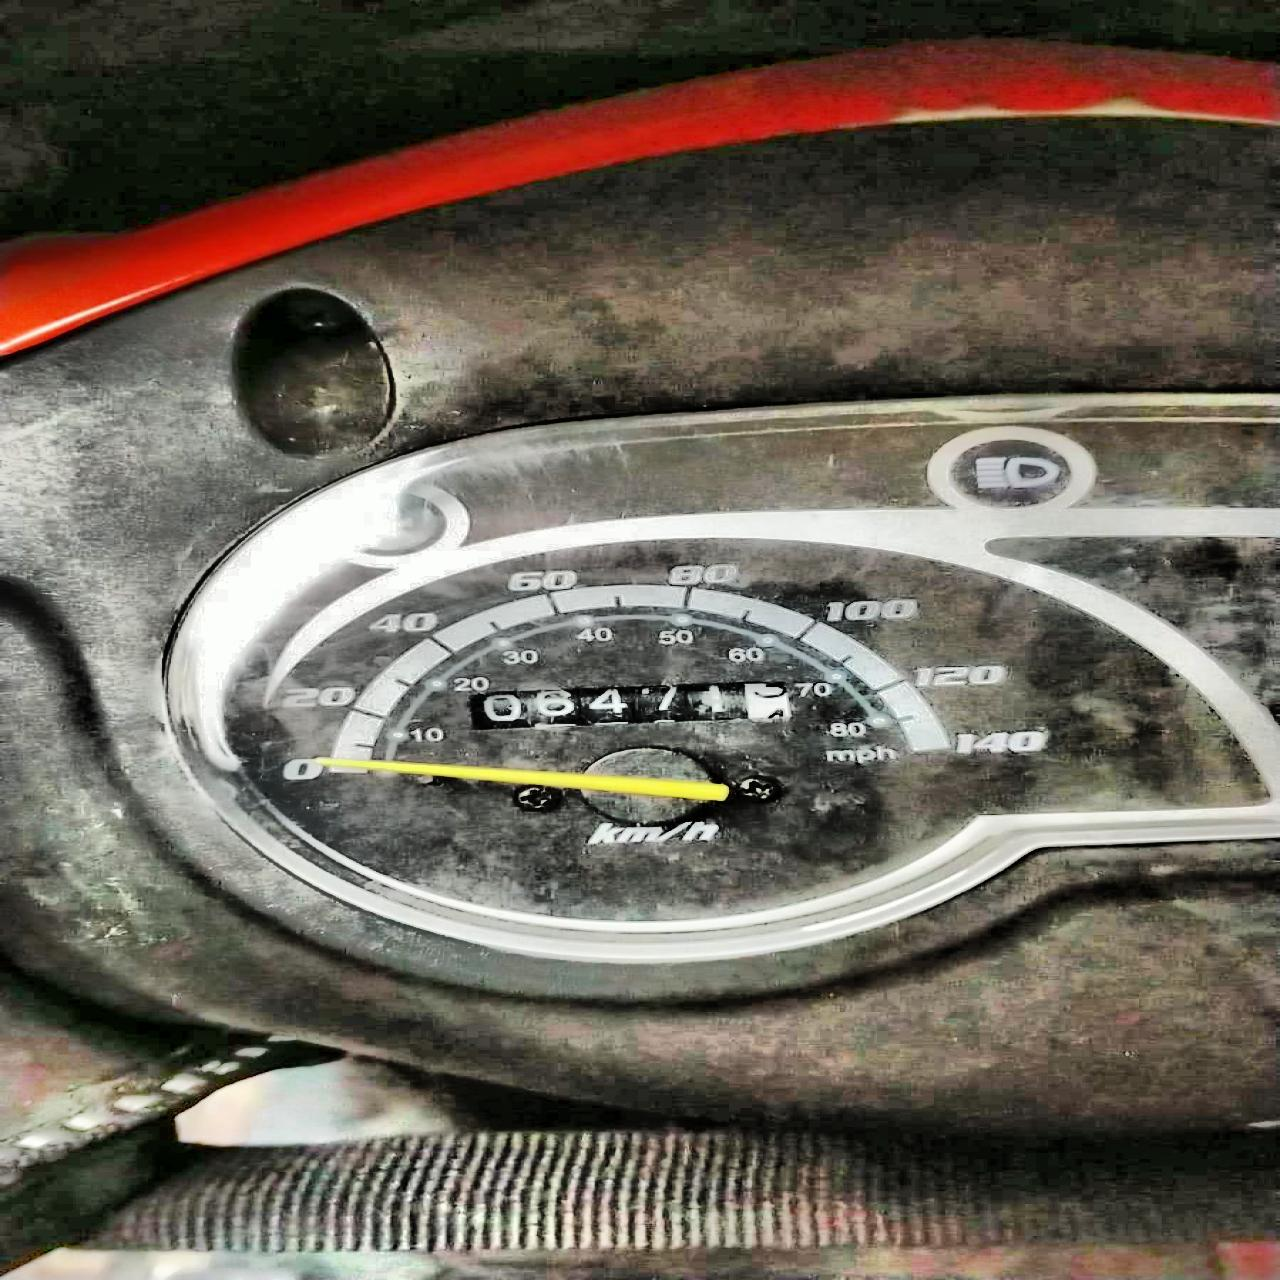0: (482, 692, 523, 721), (471, 676, 491, 689)
1: (702, 681, 729, 719)
3: (754, 679, 789, 702)
4: (588, 686, 627, 715)
6: (533, 687, 576, 717)
7: (640, 683, 687, 713)
odometer: (465, 680, 797, 735)
